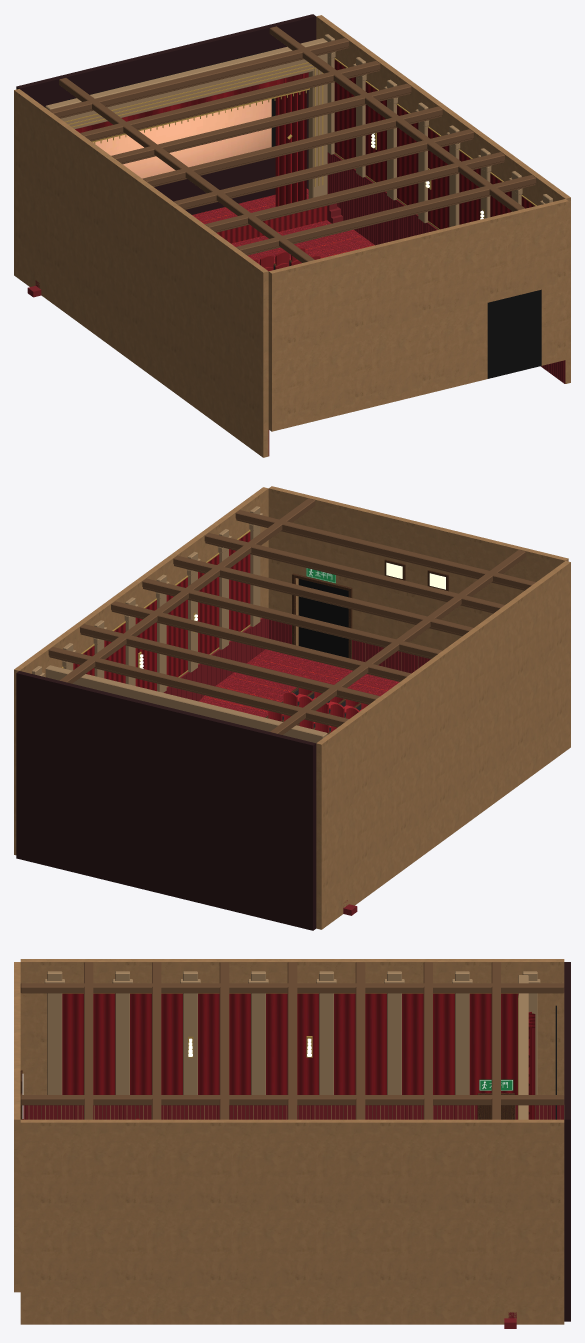
File: nanyang_hall.glb
The picture shows the model from 3 angles, top to bottom: view 1: azimuth 30°, elevation 25°; view 2: azimuth 150°, elevation 25°; view 3: azimuth 270°, elevation 25°; orthographic projection. The views are drawn at different scales.
Visible parts, largest first — view 1: WALL_left_plaster, WALL_back_plaster, nh_vc_matte, WALL_front_plaster, WALL_right_plaster, WALL_right_velvet, SCREEN, nh_velvet, WALL_back_curtain_hint, WALL_right_pilasters, WALL_right_wains, nh_carpet (+1 smaller); view 2: WALL_front_plaster, WALL_left_plaster, nh_vc_matte, WALL_back_plaster, WALL_right_plaster, WALL_right_velvet, nh_carpet, WALL_right_pilasters, WALL_back_curtain_hint, WALL_right_wains, WALL_back_wains, WALL_back_doorframe; view 3: WALL_right_plaster, WALL_left_velvet, nh_vc_matte, WALL_left_plaster, WALL_left_pilasters, WALL_left_wains, WALL_front_plaster, WALL_back_plaster, nh_velvet, nh_wood.
Part boxes in pixels (x1=…): WALL_left_plaster: x1=14, y1=89, x2=268, y2=457; WALL_back_plaster: x1=268, y1=199, x2=568, y2=431; nh_vc_matte: x1=27, y1=26, x2=536, y2=297; WALL_front_plaster: x1=16, y1=14, x2=316, y2=214; WALL_right_plaster: x1=316, y1=15, x2=570, y2=383; WALL_right_velvet: x1=334, y1=60, x2=534, y2=229; SCREEN: x1=93, y1=99, x2=271, y2=178; nh_velvet: x1=75, y1=72, x2=327, y2=243; WALL_back_curtain_hint: x1=487, y1=289, x2=541, y2=378; WALL_right_pilasters: x1=324, y1=34, x2=552, y2=226; WALL_right_wains: x1=327, y1=152, x2=565, y2=383; nh_carpet: x1=192, y1=188, x2=374, y2=264; WALL_front_plaster: x1=16, y1=671, x2=316, y2=930; WALL_left_plaster: x1=316, y1=561, x2=570, y2=929; nh_vc_matte: x1=45, y1=498, x2=535, y2=915; WALL_back_plaster: x1=268, y1=486, x2=568, y2=670; WALL_right_plaster: x1=14, y1=487, x2=268, y2=855; WALL_right_velvet: x1=73, y1=532, x2=250, y2=691; nh_carpet: x1=199, y1=649, x2=399, y2=717; WALL_right_pilasters: x1=32, y1=506, x2=262, y2=692; WALL_back_curtain_hint: x1=298, y1=579, x2=348, y2=657; WALL_right_wains: x1=163, y1=618, x2=268, y2=701; WALL_back_wains: x1=269, y1=619, x2=430, y2=673; WALL_back_doorframe: x1=292, y1=573, x2=352, y2=658; WALL_right_plaster: x1=20, y1=1119, x2=564, y2=1324; WALL_left_velvet: x1=62, y1=993, x2=518, y2=1094; nh_vc_matte: x1=20, y1=962, x2=564, y2=1328; WALL_left_plaster: x1=20, y1=959, x2=564, y2=1119; WALL_left_pilasters: x1=44, y1=971, x2=540, y2=1094; WALL_left_wains: x1=22, y1=1105, x2=563, y2=1119; WALL_front_plaster: x1=564, y1=962, x2=570, y2=1321; WALL_back_plaster: x1=14, y1=962, x2=20, y2=1292; nh_velvet: x1=528, y1=1012, x2=535, y2=1119; nh_wood: x1=477, y1=1093, x2=514, y2=1119.
Bounding box in the file's own units: 12 × 6.56 × 16.4.
Materials: 13 (7 with a texture image).
